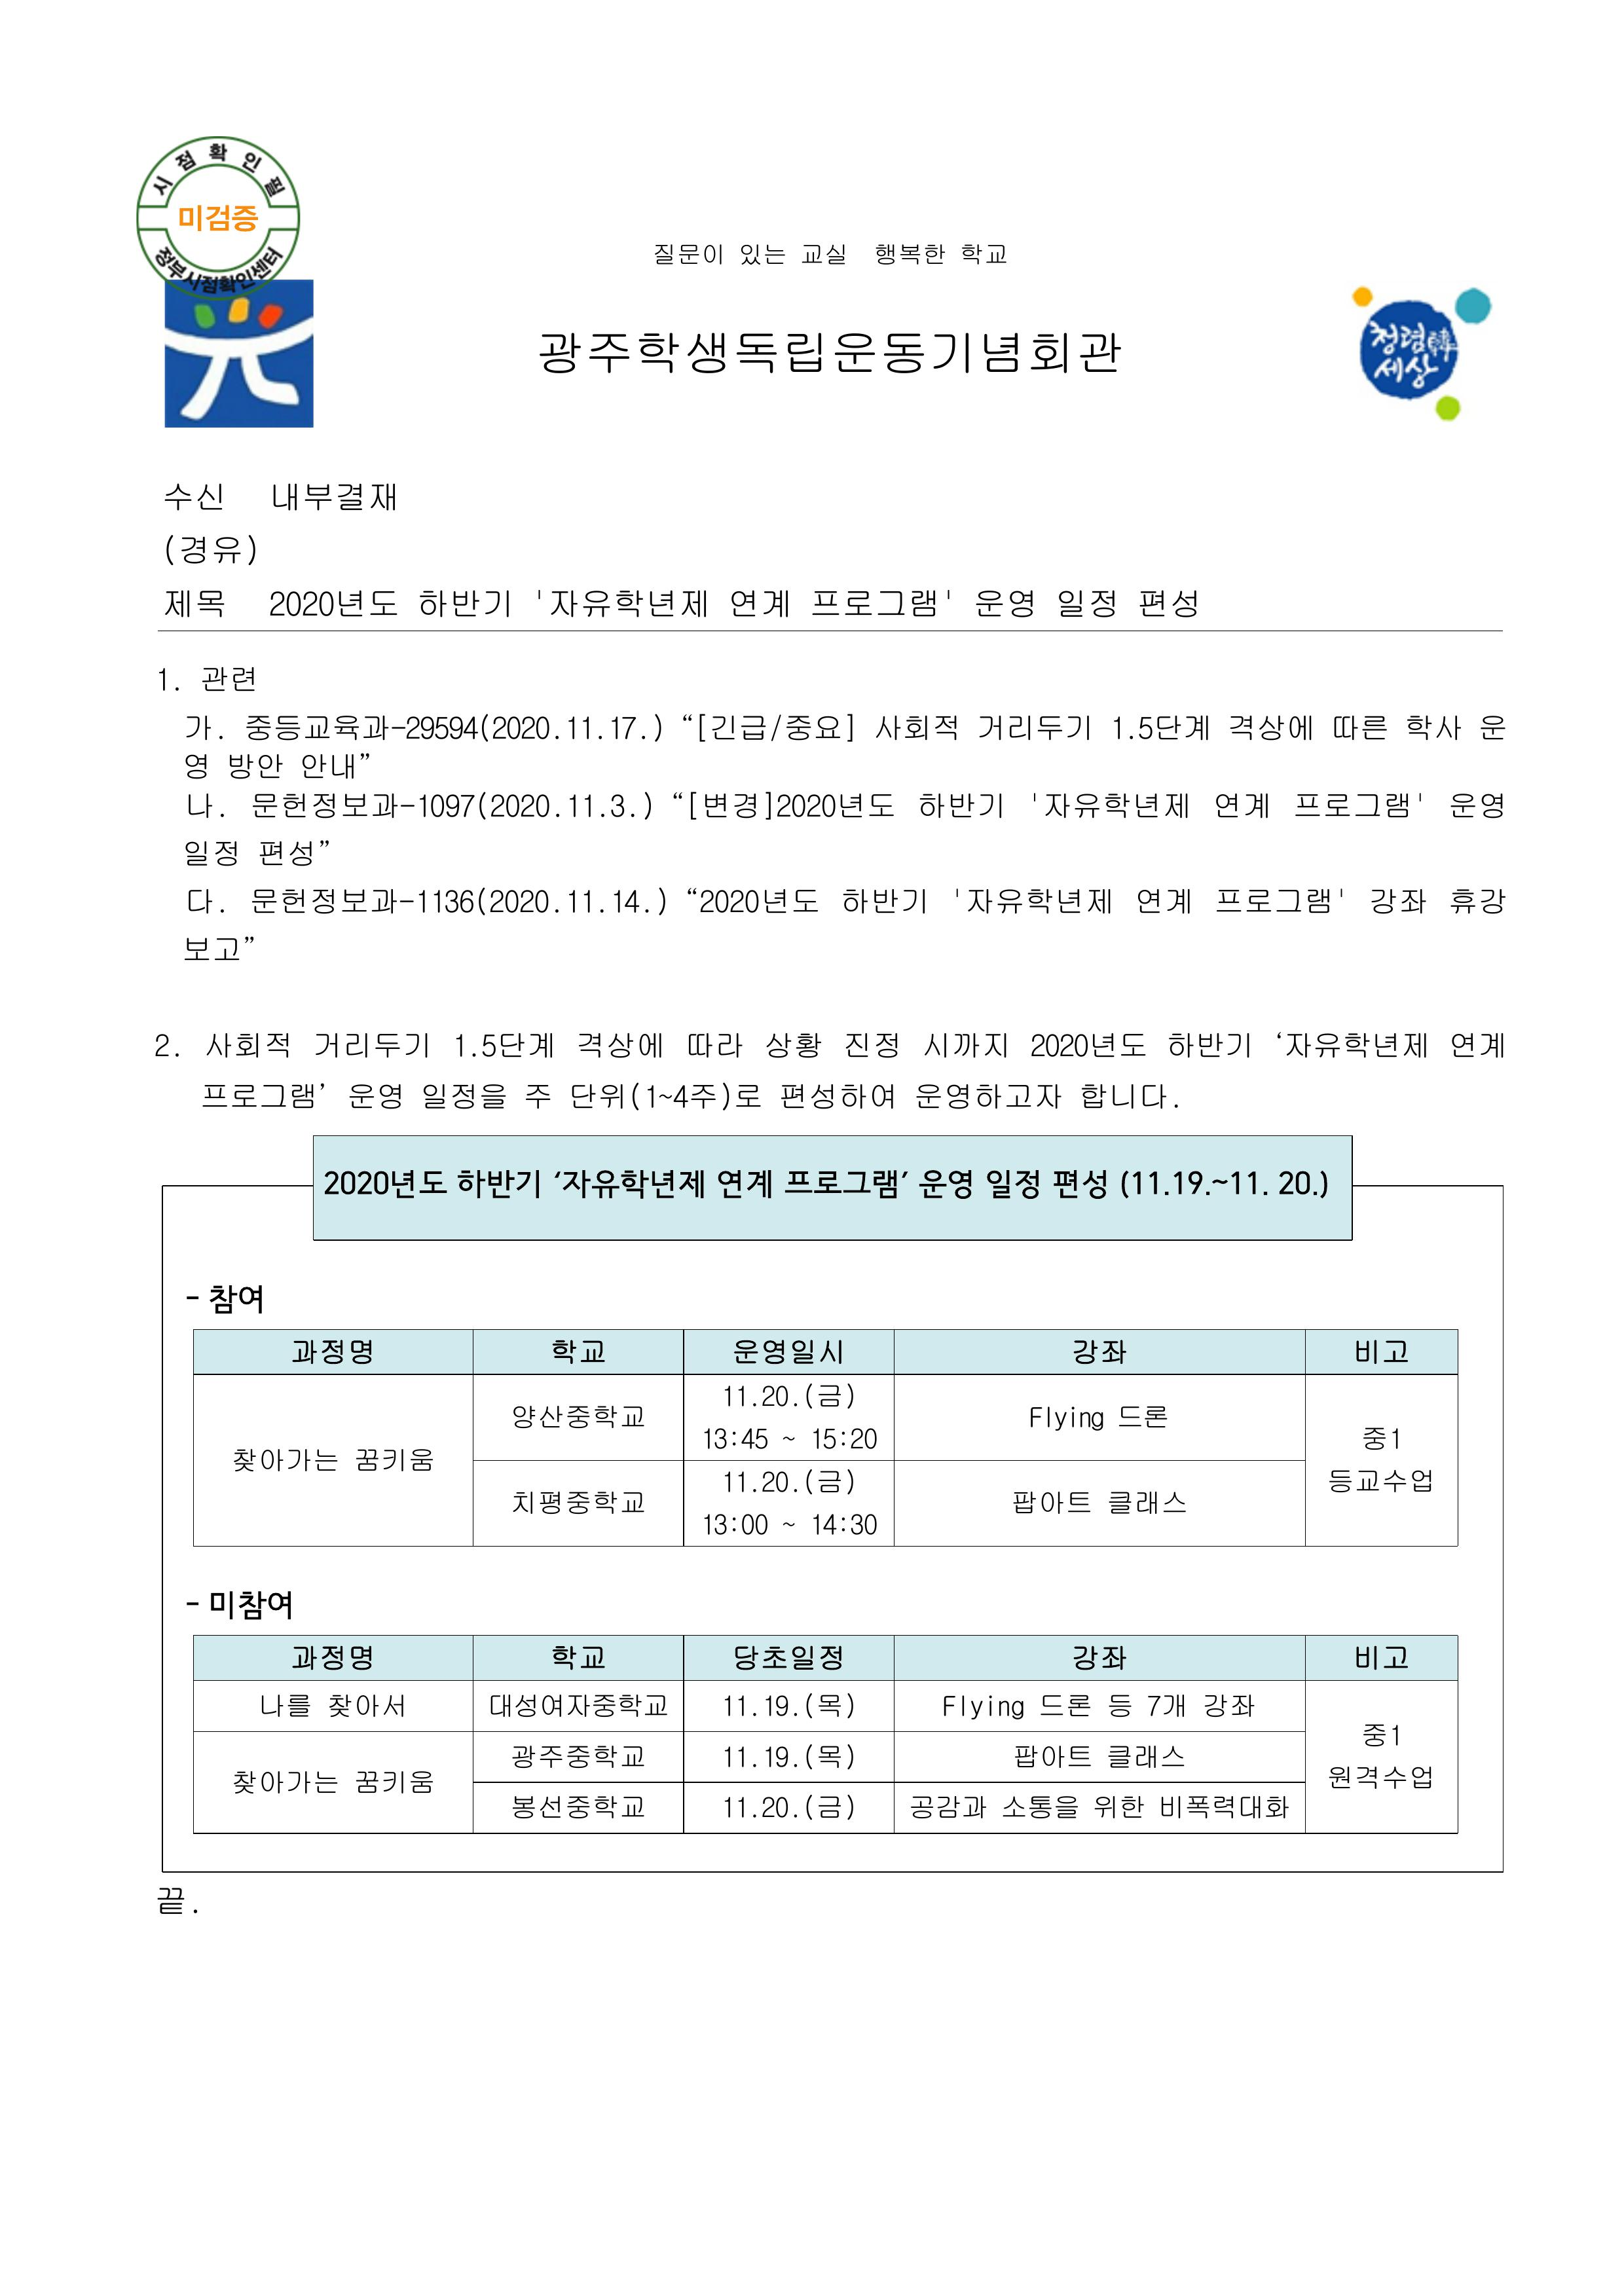t: (538, 326, 1126, 380), (251, 788, 555, 821), (671, 788, 896, 824), (337, 882, 552, 918), (1036, 1689, 1255, 1721), (566, 1079, 764, 1111), (692, 710, 857, 746), (545, 584, 706, 620), (487, 1689, 667, 1721), (1011, 1484, 1187, 1516), (1276, 1025, 1431, 1061), (240, 710, 390, 746), (1040, 788, 1190, 824), (965, 882, 1115, 918), (555, 1165, 706, 1201), (1115, 1165, 1266, 1201), (914, 1079, 1061, 1115), (268, 477, 397, 516), (401, 710, 555, 742), (509, 1398, 645, 1434), (509, 1484, 645, 1520), (810, 584, 943, 620), (265, 584, 397, 620), (781, 1165, 911, 1201), (319, 1165, 448, 1201), (717, 1466, 857, 1499), (717, 1789, 857, 1822), (695, 882, 821, 918), (1212, 882, 1337, 918), (717, 1380, 857, 1412), (717, 1739, 857, 1771), (509, 1789, 645, 1822), (720, 1689, 857, 1721), (509, 1739, 645, 1771), (1154, 1789, 1287, 1822), (731, 1334, 846, 1370), (1291, 788, 1416, 821), (312, 1029, 434, 1061), (774, 1079, 896, 1111), (972, 710, 1094, 742), (200, 1079, 322, 1111), (161, 530, 258, 570), (563, 707, 668, 742), (731, 1642, 846, 1674), (1323, 1760, 1434, 1793), (229, 1445, 341, 1477), (416, 584, 513, 620), (1327, 1463, 1434, 1495), (452, 1165, 545, 1201), (1108, 710, 1212, 742), (1226, 710, 1316, 746), (251, 882, 341, 918), (839, 882, 929, 918), (229, 1767, 341, 1796), (204, 1588, 294, 1624), (1366, 319, 1445, 358), (907, 1789, 993, 1825), (914, 788, 1007, 821), (574, 1029, 667, 1061), (1079, 1079, 1172, 1111), (175, 200, 258, 236), (921, 1029, 1011, 1061), (1025, 1029, 1115, 1061), (1165, 1029, 1255, 1061), (871, 710, 961, 742), (419, 1079, 509, 1111), (290, 1337, 377, 1370), (204, 1029, 290, 1061), (290, 1642, 377, 1674), (322, 1689, 409, 1721), (1011, 1739, 1097, 1771), (1101, 1739, 1187, 1771), (997, 1789, 1079, 1822), (1025, 1402, 1108, 1434), (351, 1764, 434, 1796), (918, 1165, 979, 1208), (563, 788, 642, 821), (477, 1029, 555, 1061), (871, 236, 950, 268), (161, 584, 226, 620), (728, 584, 792, 620), (1133, 584, 1198, 620), (351, 1445, 434, 1473), (972, 584, 1036, 620), (1054, 584, 1118, 620), (1327, 710, 1391, 746), (254, 835, 319, 871), (1445, 788, 1506, 824), (1366, 882, 1427, 918), (713, 1165, 774, 1201), (982, 1165, 1043, 1201), (1047, 1165, 1108, 1201), (183, 835, 244, 871), (606, 885, 671, 918), (760, 1029, 824, 1061), (297, 749, 362, 781), (1402, 710, 1466, 742), (807, 1423, 878, 1452), (943, 1696, 1025, 1721), (1273, 1165, 1330, 1201), (208, 1280, 265, 1315), (164, 480, 226, 513), (1133, 885, 1194, 918), (1445, 885, 1506, 918), (685, 1029, 746, 1061), (839, 1029, 900, 1061), (1445, 1029, 1506, 1061), (197, 663, 258, 695), (226, 749, 287, 781), (1069, 1642, 1130, 1674), (1212, 788, 1269, 821), (1069, 1337, 1126, 1370), (348, 1079, 405, 1111), (258, 1689, 315, 1721), (703, 1427, 774, 1452), (703, 1513, 771, 1538), (810, 1513, 878, 1538), (548, 1337, 606, 1366), (1352, 1337, 1409, 1366), (1352, 1642, 1409, 1671), (1090, 1793, 1147, 1822), (649, 240, 703, 268), (735, 240, 788, 268), (1115, 1402, 1169, 1431), (563, 885, 610, 918), (183, 788, 229, 821), (183, 710, 229, 742), (552, 1645, 610, 1671), (1359, 1423, 1402, 1456), (1359, 1717, 1402, 1750), (800, 244, 849, 268), (957, 244, 1007, 268), (1473, 710, 1506, 746), (448, 1029, 480, 1061), (520, 1079, 552, 1111), (183, 932, 212, 964), (1118, 1029, 1147, 1061), (183, 749, 212, 781), (186, 889, 222, 914), (157, 667, 186, 695), (219, 936, 244, 964), (154, 1033, 175, 1061), (703, 244, 728, 265), (638, 796, 656, 821)
